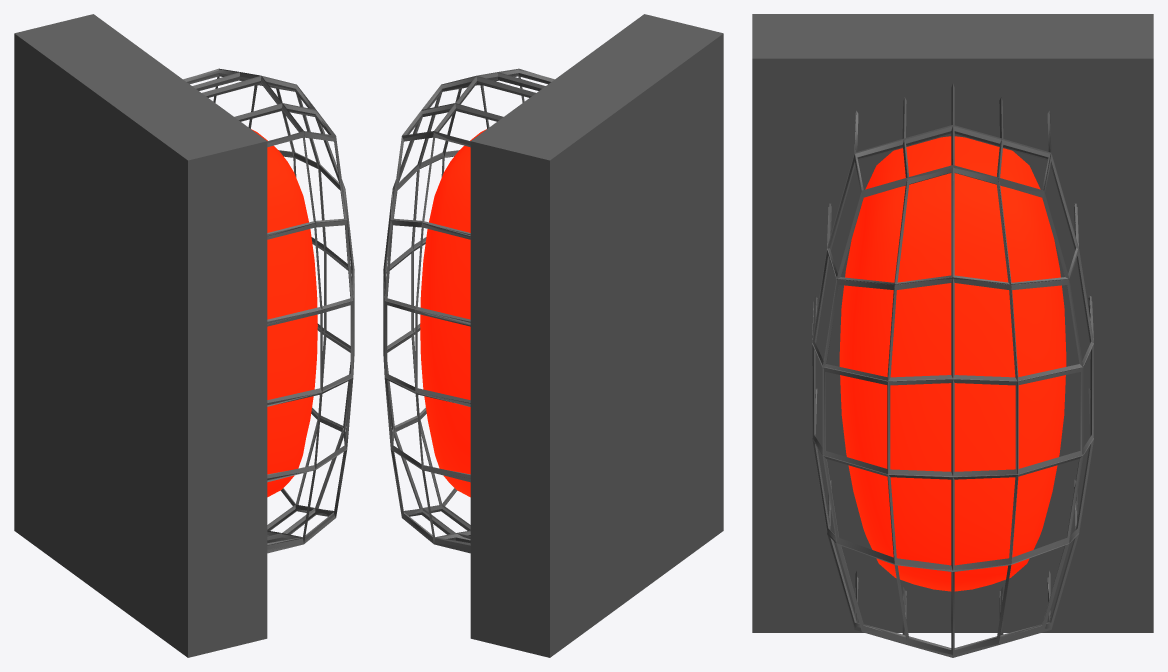
Rendered from alarmLight.fbx.
3 renders of one model, left to right at view 1: azimuth 30°, elevation 25°; view 2: azimuth 150°, elevation 25°; view 3: azimuth 270°, elevation 25°, orthographic. The views are drawn at different scales.
Parts seen in each view (by area): view 1: alarmLightBase, alarmLight, alarmLightProtection; view 2: alarmLightBase, alarmLight, alarmLightProtection; view 3: alarmLightBase, alarmLight, alarmLightProtection.
Boxes of the visible parts, x1,y1,x2,y2 form: alarmLightBase: [14, 14, 267, 657]; alarmLight: [251, 129, 317, 497]; alarmLightProtection: [183, 68, 354, 553]; alarmLightBase: [470, 14, 723, 657]; alarmLight: [420, 129, 486, 497]; alarmLightProtection: [383, 68, 554, 553]; alarmLightBase: [752, 14, 1153, 632]; alarmLight: [839, 136, 1066, 591]; alarmLightProtection: [812, 84, 1093, 657].
Size of the model in its own units: 13.58 by 10.17 by 21.44.
